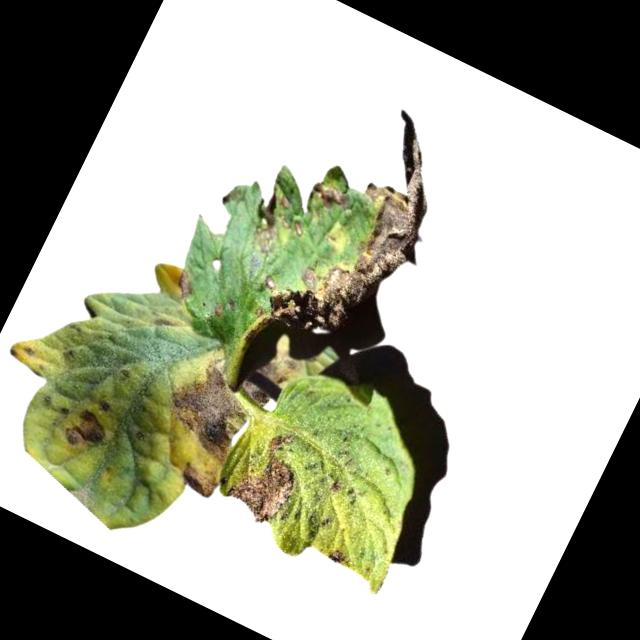Early_blight: (257, 89, 465, 358), (221, 421, 315, 530), (159, 355, 260, 455), (239, 184, 307, 260), (236, 344, 298, 412), (59, 404, 113, 459), (171, 456, 224, 502), (165, 264, 199, 302), (322, 542, 353, 569), (93, 394, 114, 414)
